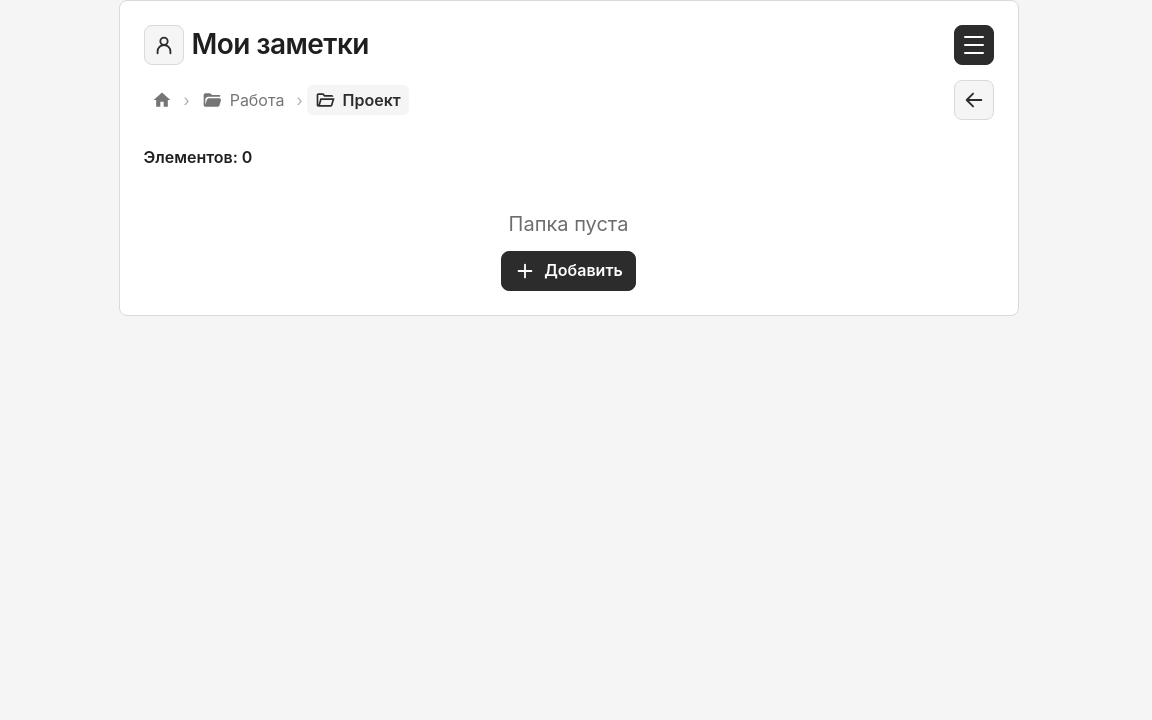
opens the element picker from an empty folder and uses the edit label in its menu
expect the text with class "todo__list-empty" reads "Папка пуста": met, box [509,212,628,236]
What coordinates should you click on to do the following:
click the button "Добавить"
I would click on:
 (568, 271)
Its box is [501,251,636,291].
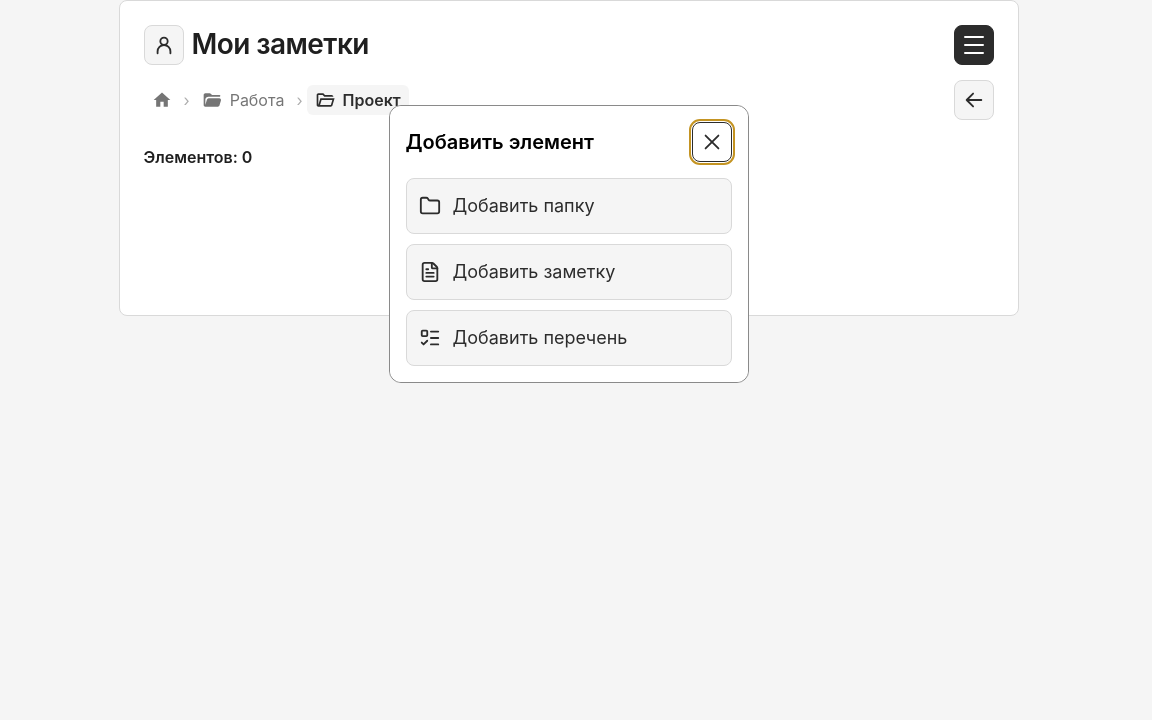
expect the heading "Добавить элемент" is shown: met, box [406,127,594,157]
What coordinates should you click on to do the following:
click the button with class "btn-modal-close"
I would click on:
 (712, 142)
Its box is [692,122,732,162].
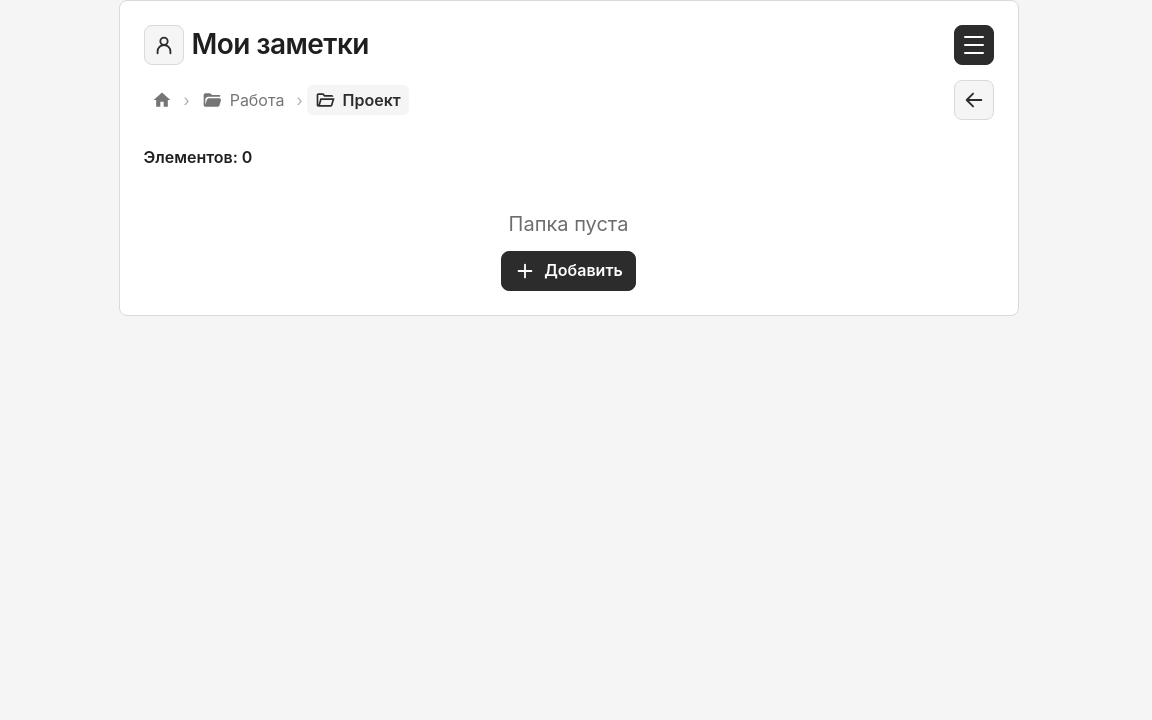
What coordinates should you click on to do the following:
click the button with class "todo__menu-trigger"
I would click on:
 (974, 45)
Its box is [954,25,994,65].
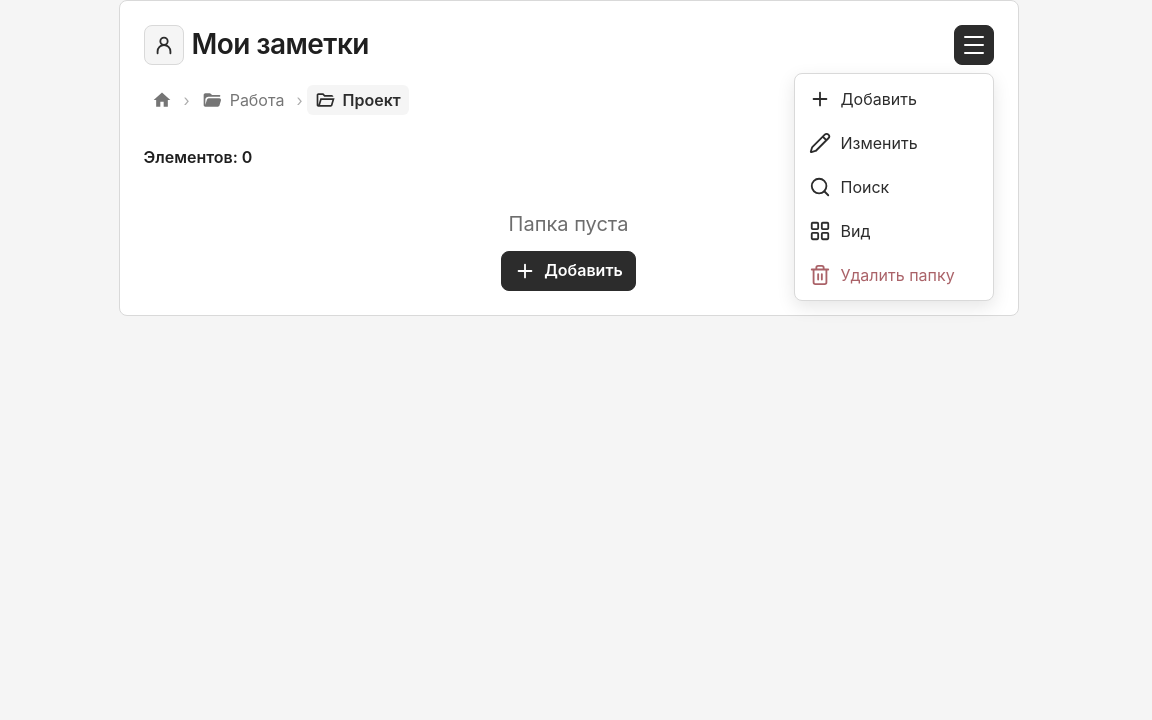
What coordinates should you click on to do the following:
click the menu item "Изменить"
I would click on:
 (894, 143)
Its box is [798,122,988,164].
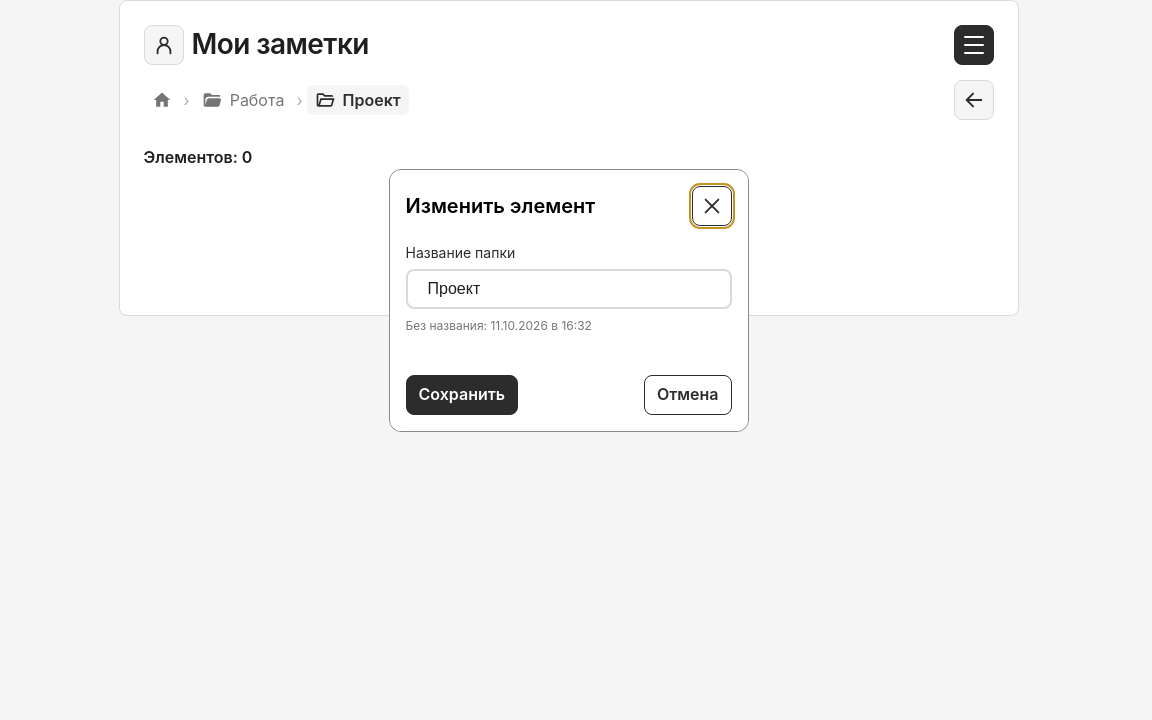
expect the field labelled "Название папки" holds "Проект": met, box [406,269,732,309]
